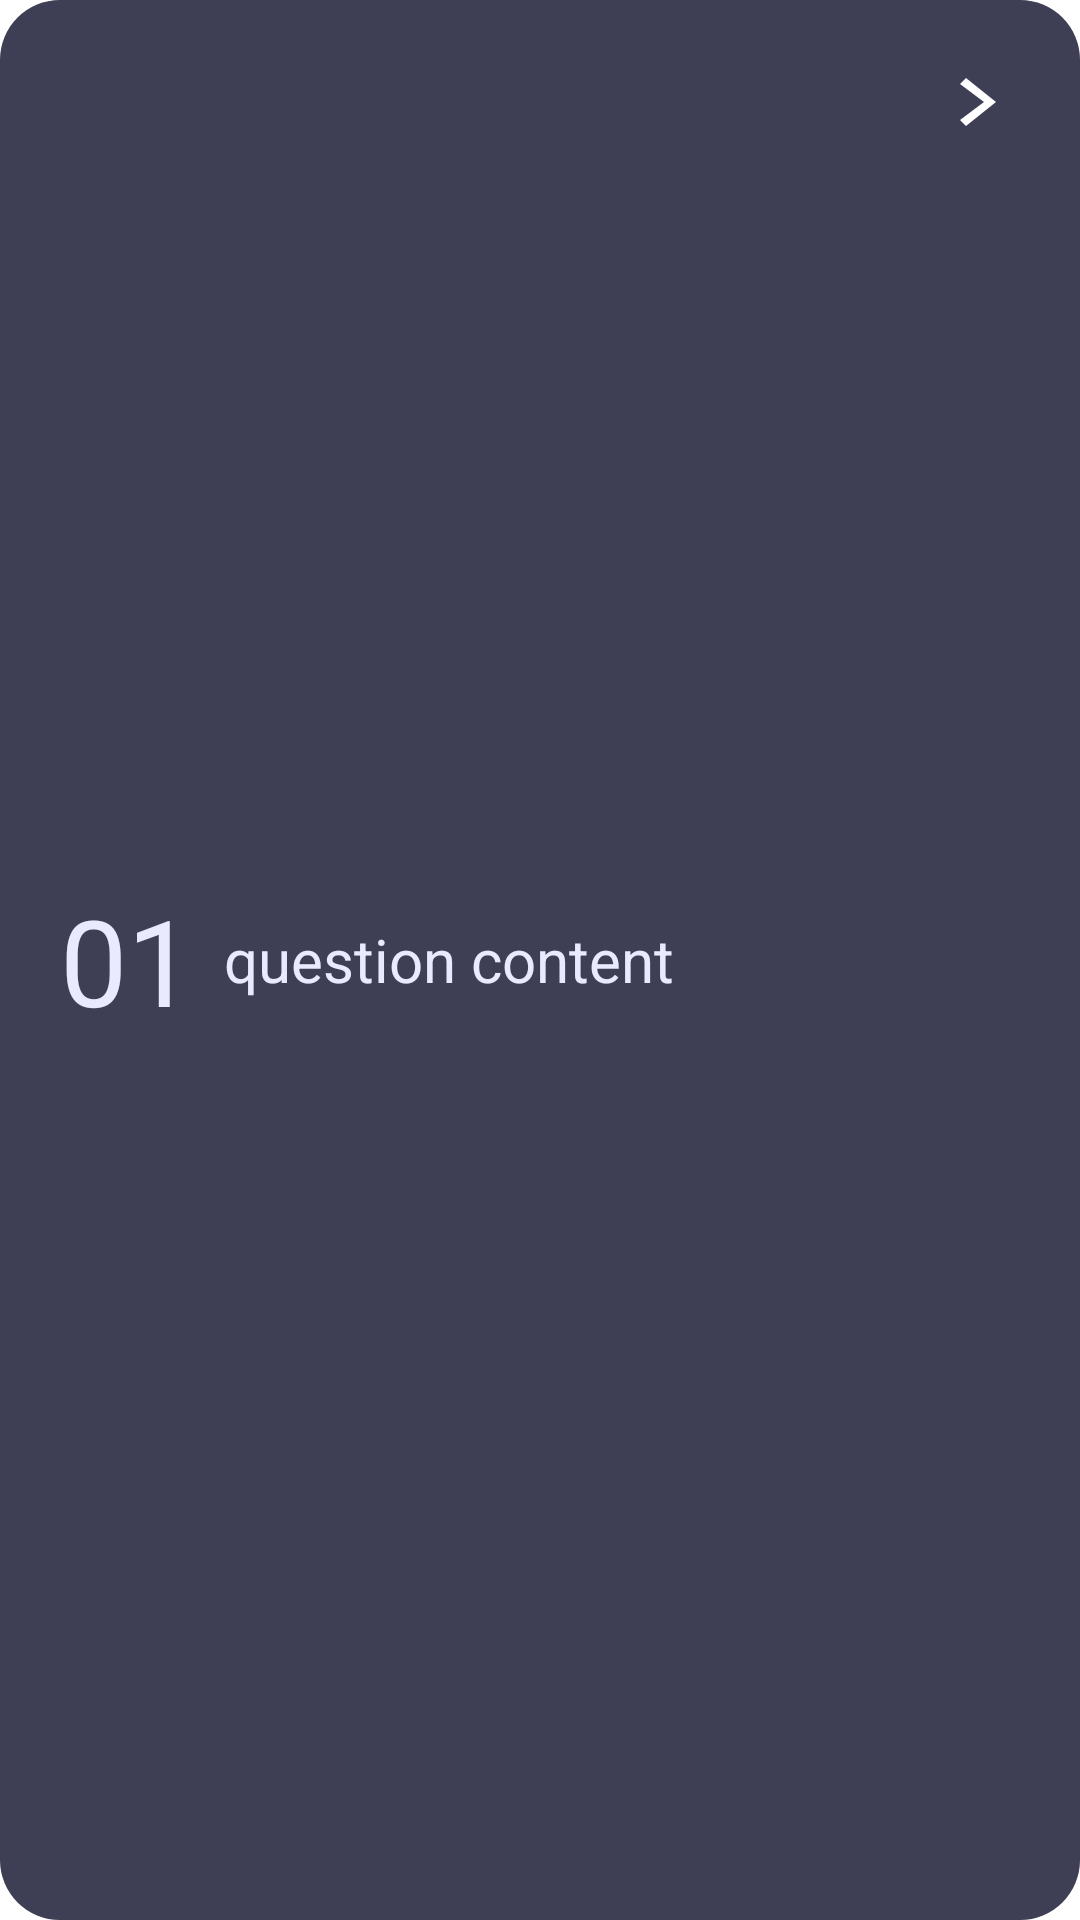

Icons on this 1080px x 1920px Android screen, each with its box as box=[x1, y1, x2, y2]:
aa arrow right: box=[960, 78, 996, 126]
